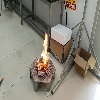fire: (36, 31, 50, 72)
